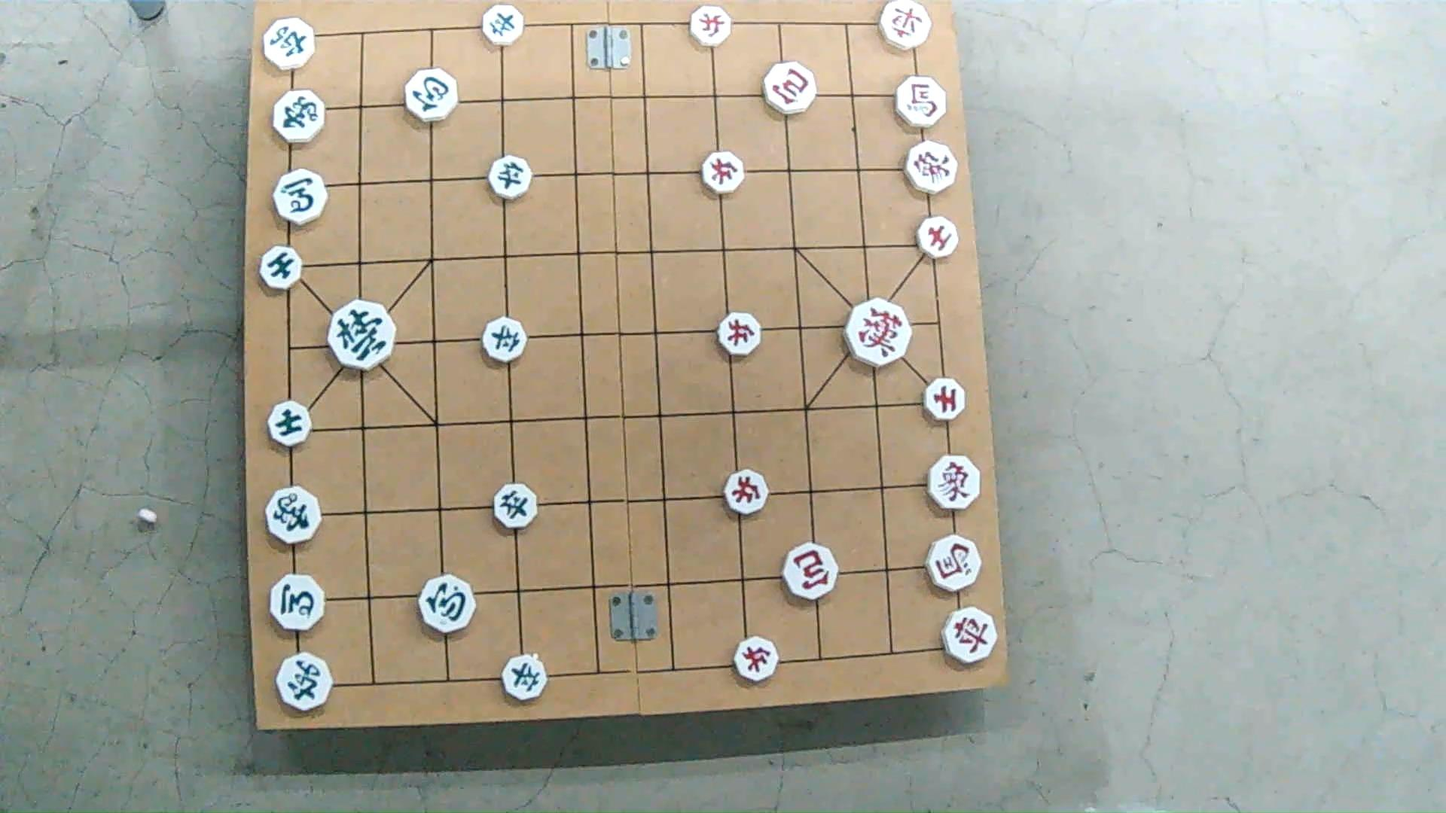cha_green: (273, 652, 334, 710), (263, 18, 319, 71)
cha_red: (942, 609, 999, 663), (878, 2, 931, 50)
jol_green: (502, 655, 548, 699), (492, 484, 537, 528), (486, 158, 531, 200), (483, 322, 528, 364), (479, 5, 522, 44)
jol_red: (721, 471, 767, 515), (732, 639, 776, 682), (717, 315, 761, 358), (700, 154, 744, 194), (688, 6, 733, 45)
ma_green: (271, 575, 326, 629), (273, 172, 328, 224)
ma_red: (927, 534, 981, 594), (898, 78, 950, 123)
po_green: (416, 573, 477, 633), (403, 70, 456, 121)
po_red: (782, 547, 837, 600), (764, 64, 817, 114)
sa_green: (258, 246, 305, 288), (268, 402, 311, 445)
sa_red: (926, 376, 966, 421), (917, 219, 962, 258)
sang_green: (269, 487, 325, 547), (273, 91, 328, 141)
sang_red: (929, 458, 985, 510), (906, 142, 956, 196)
wang_green: (327, 300, 395, 365)
wang_red: (846, 305, 913, 368)
